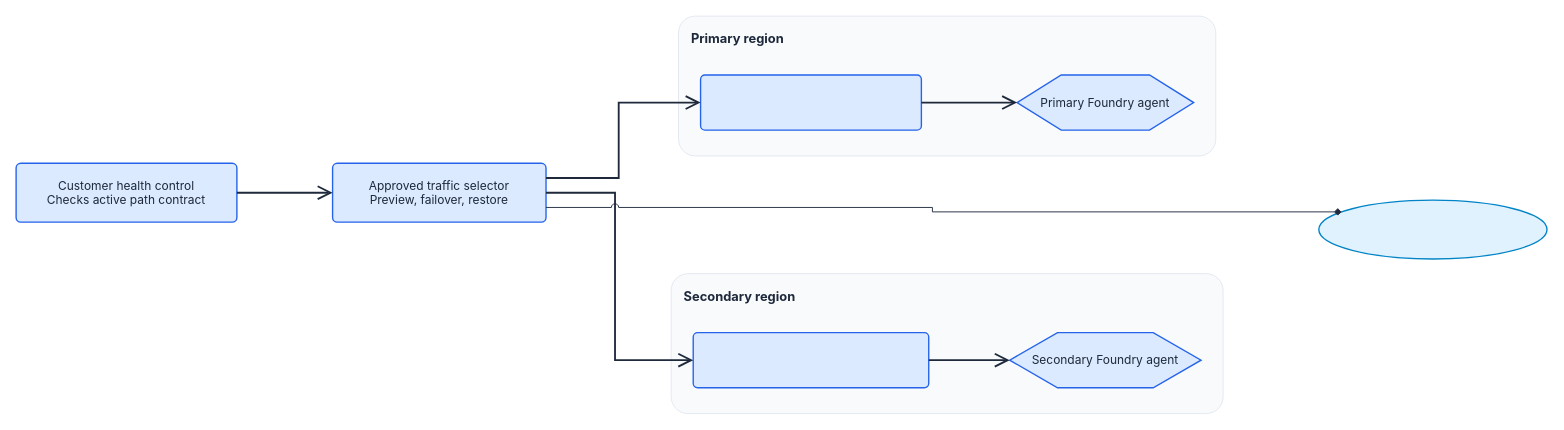
Image size: 1564x430. Some labels were removed from this diagram. Here are the shapes that lost their labels. From the top down, the centre of each, then its label:
the point at 810,102: Primary API Management path
the point at 1432,229: Delivery owner Approves both selector moves
the point at 810,359: Secondary API Management path
